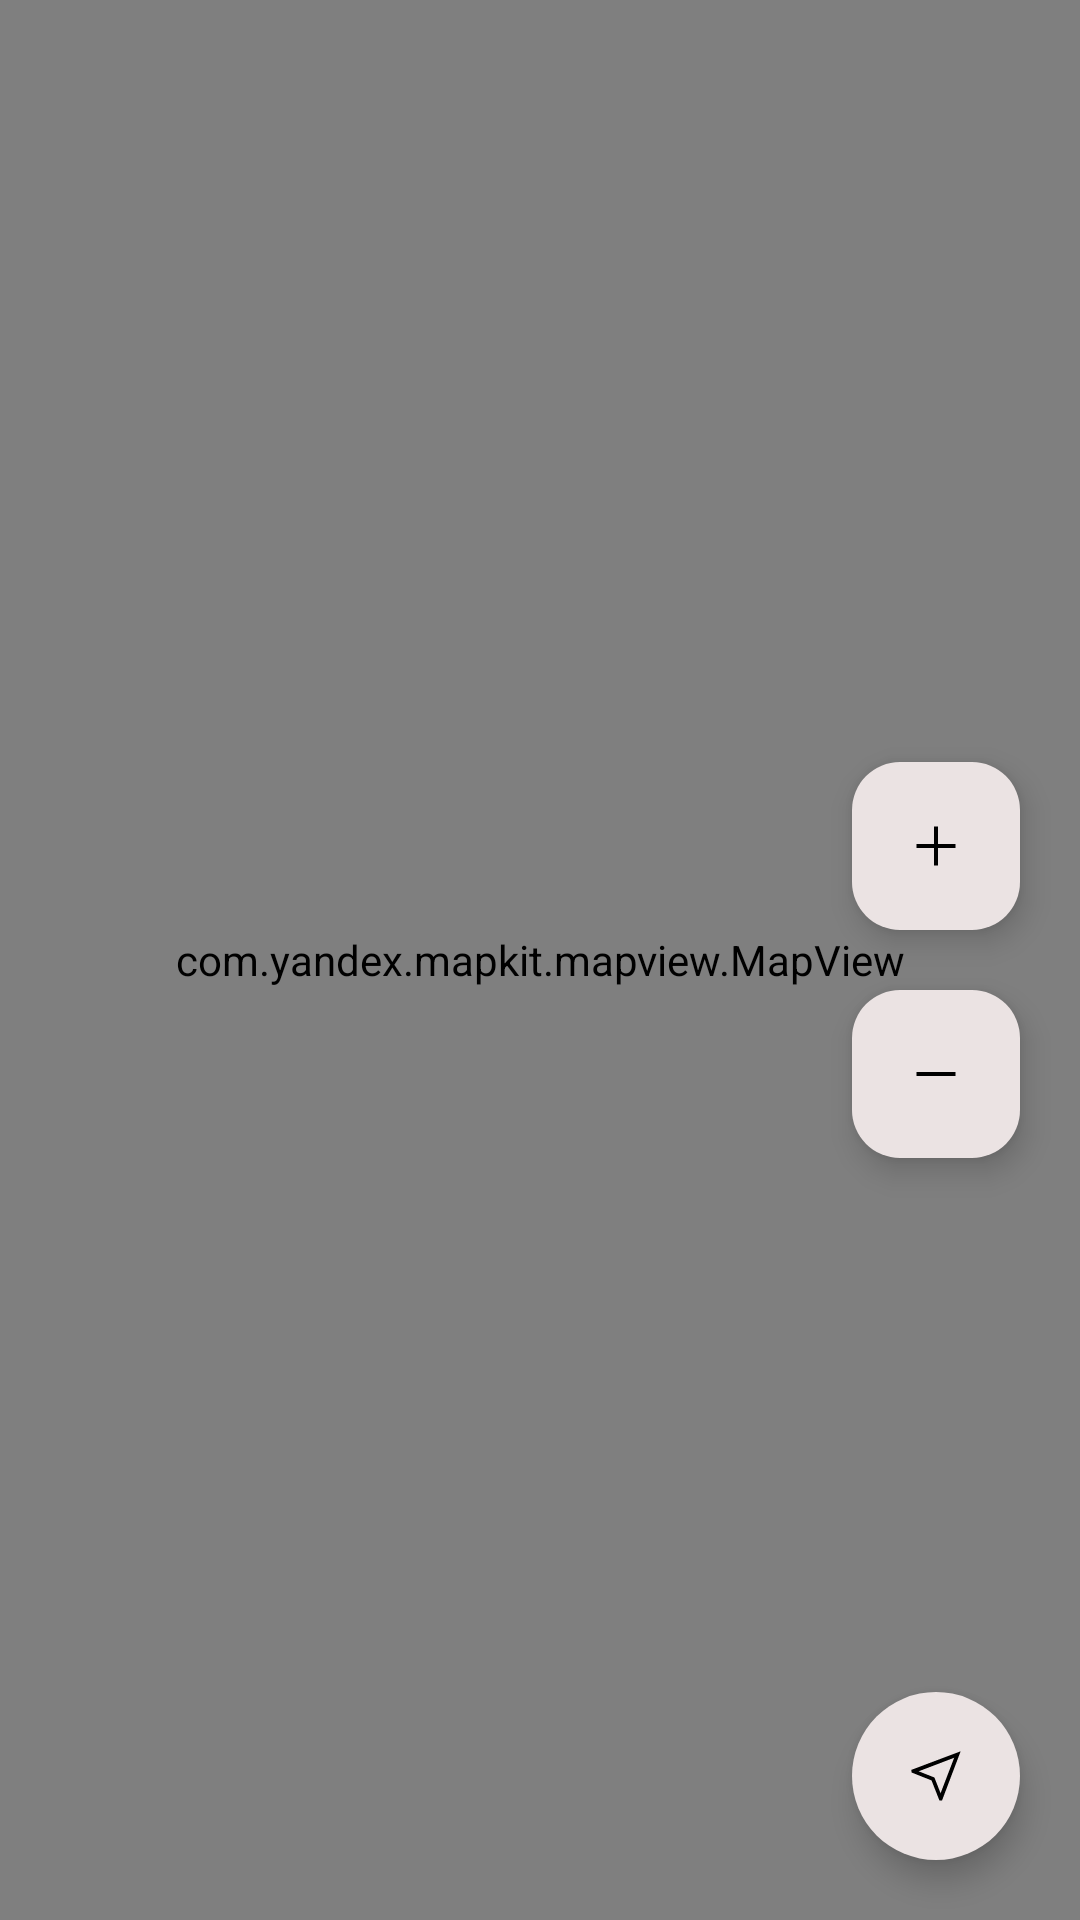

Icons on this 1080*1920 Android screen, each with the point to tap as (x=x, y=y):
add: (x=936, y=846)
location: (x=936, y=1776)
minus: (x=936, y=1074)
